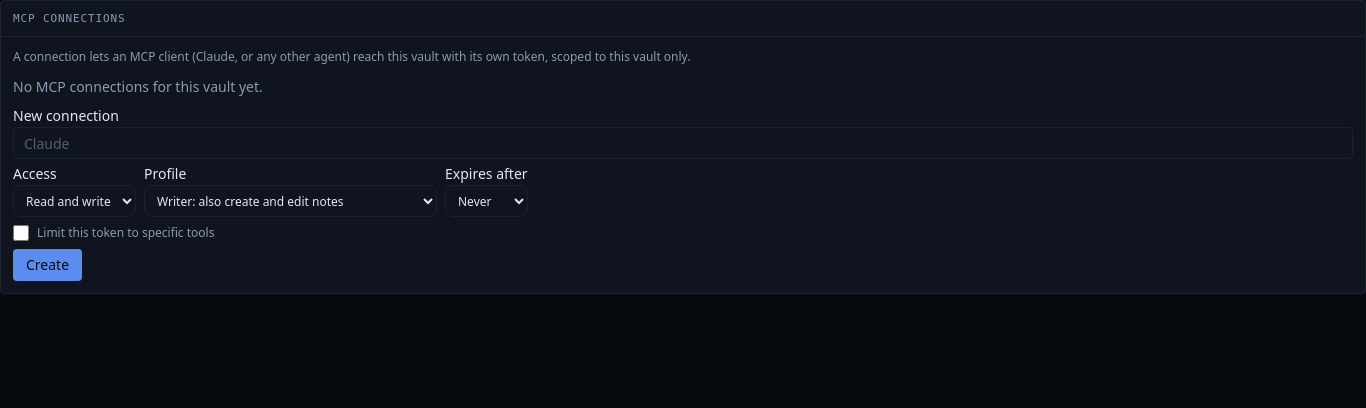
it: VaultMcpPanel › an editor is offered the edit-gated tools but not the owner-only ones
The image size is (1366, 408).
Expected: the text "No MCP connections for this vault yet." is shown, x1=13 y1=77 x2=263 y2=96
list_trash is outside the writer profile the form starts on.
Step 1. Select "Admin: every tool the access allows" in the dropdown labelled "Profile" → [290, 201], box x1=144 y1=185 x2=437 y2=217
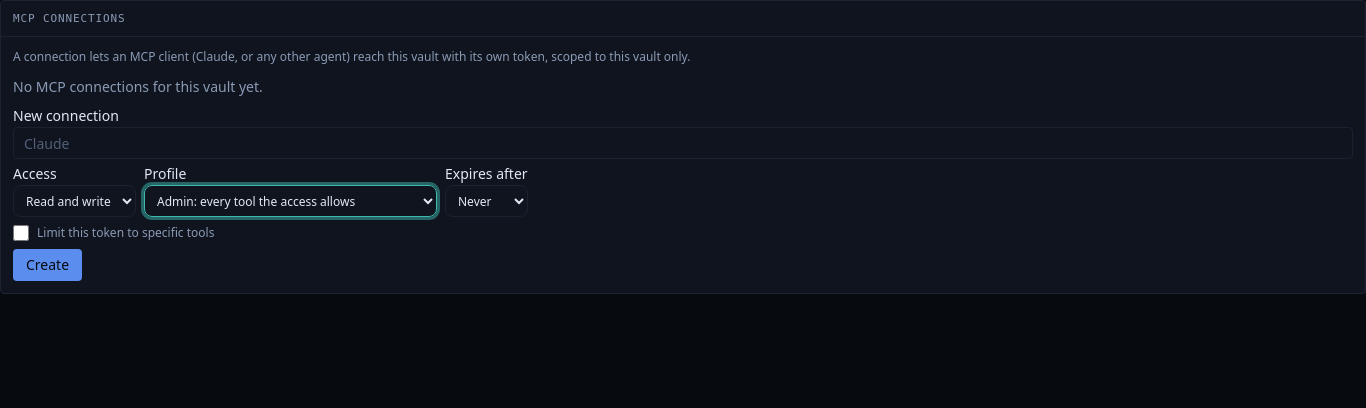
Step 2. Click the checkbox labelled "Limit this token to specific tools" → [21, 233], box x1=13 y1=225 x2=29 y2=241
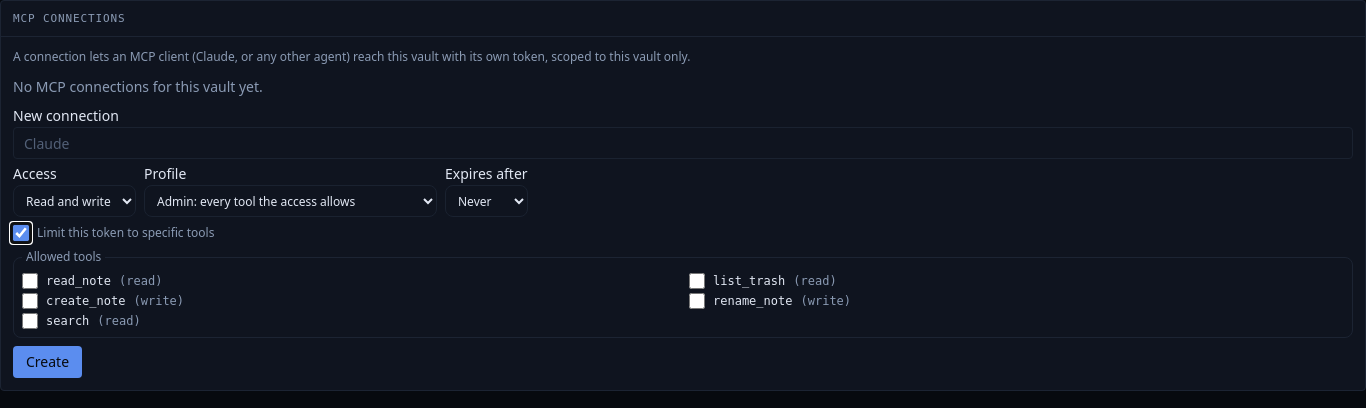
Result: the checkbox labelled "list_trash (read)" is shown at x1=689 y1=273 x2=705 y2=289
Result: the checkbox labelled "create_note (write)" is shown at x1=22 y1=293 x2=38 y2=309
